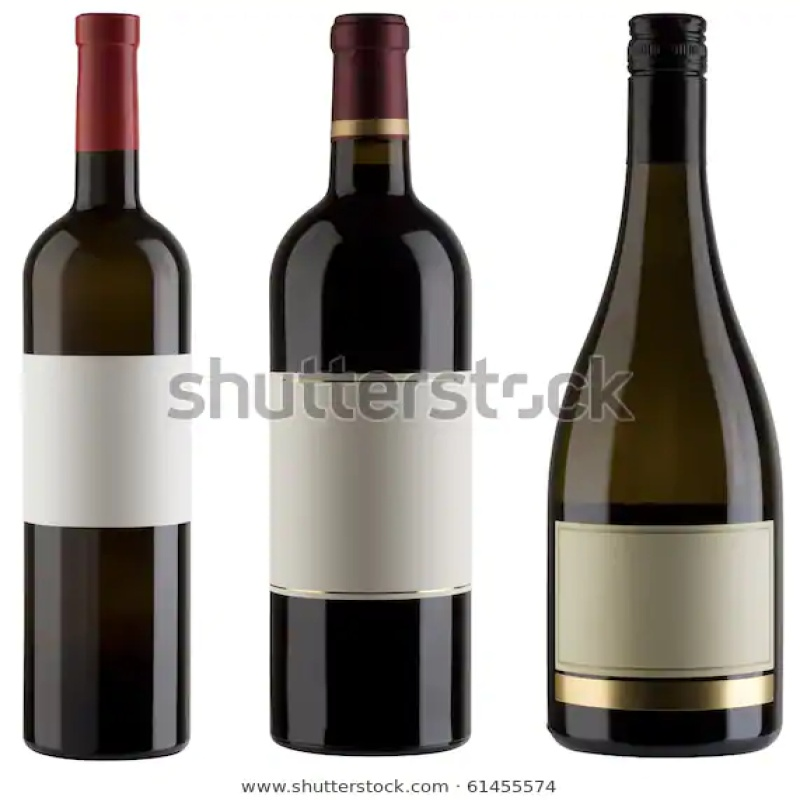wine: (550, 107, 783, 759), (270, 70, 472, 759), (22, 63, 194, 761)
